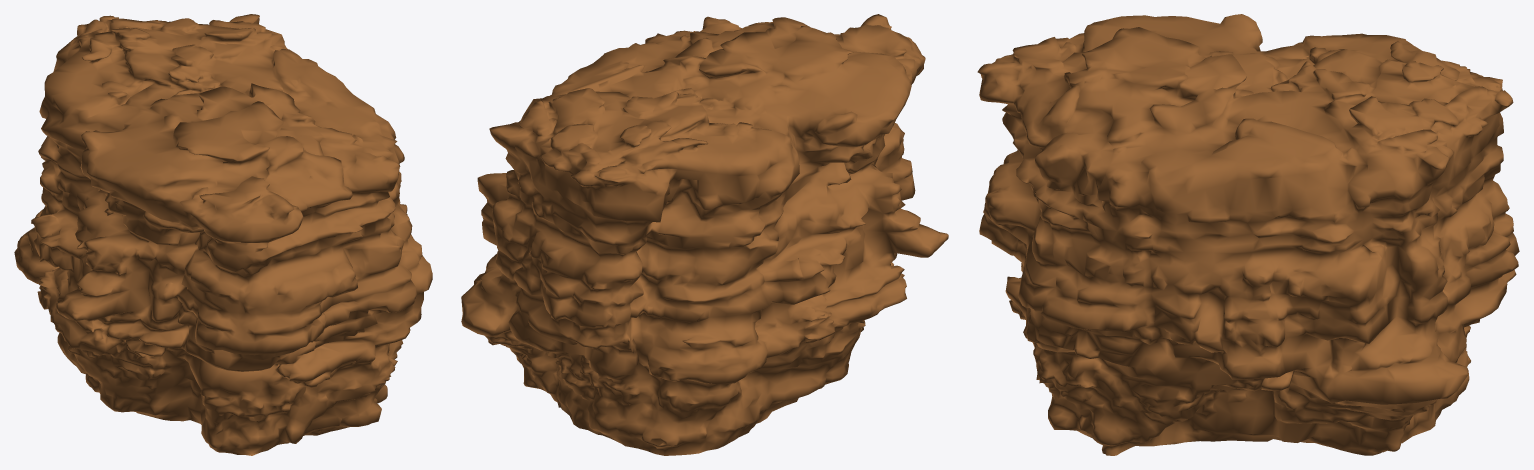
File: MSH_Rocks_Cliff_31_a.FBX
The picture shows the model from 3 angles, left to right: view 1: azimuth 30°, elevation 25°; view 2: azimuth 150°, elevation 25°; view 3: azimuth 270°, elevation 25°; orthographic projection. The views are drawn at different scales.
Visible parts, largest first — view 1: MESH_LOD0; view 2: MESH_LOD0; view 3: MESH_LOD0.
Boxes of the visible parts, x1,y1,x2,y2 form: MESH_LOD0: (14, 14, 432, 455); MESH_LOD0: (461, 14, 948, 455); MESH_LOD0: (977, 14, 1519, 455).
Size of what is drawn, in the model's own units: 165 by 130 by 191.
